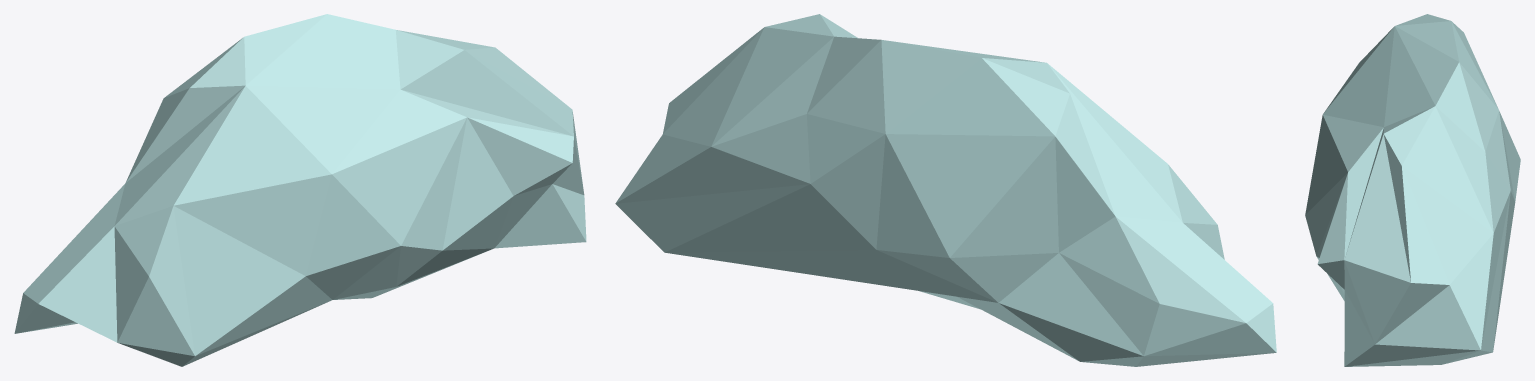
File: cloud-024.glb
3 renders of one model, left to right at view 1: azimuth 30°, elevation 25°; view 2: azimuth 150°, elevation 25°; view 3: azimuth 270°, elevation 25°, orthographic. The views are drawn at different scales.
Visible parts, largest first — view 1: cloud 24_47; view 2: cloud 24_47; view 3: cloud 24_47.
Part boxes in pixels (x1,y1,x2,y2): cloud 24_47: (14,14,586,366); cloud 24_47: (615,14,1276,366); cloud 24_47: (1305,14,1520,366).
Bounding box in the file's own units: 1.71 × 0.7197 × 0.6045.
